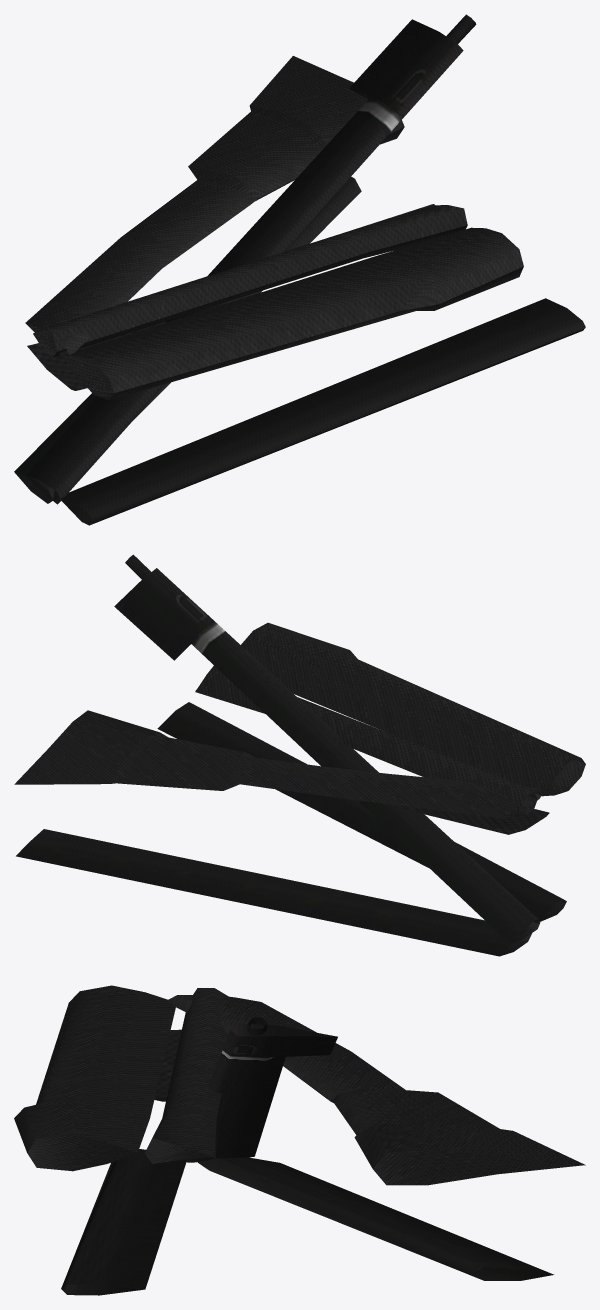
Rendered from FerrariF2007_SuspFR.glb.
3 views of the same model, one above another, from view 1: azimuth 30°, elevation 25°; view 2: azimuth 150°, elevation 25°; view 3: azimuth 270°, elevation 25° (orthographic). The views are drawn at different scales.
Parts seen in each view (by area): view 1: fer_suspa_fr; view 2: fer_suspa_fr; view 3: fer_suspa_fr.
Boxes of the visible parts, x1,y1,x2,y2 form: fer_suspa_fr: (14, 14, 585, 525); fer_suspa_fr: (14, 554, 585, 956); fer_suspa_fr: (14, 985, 585, 1295).
Bounding box in the file's own units: 0.4483 × 0.3321 × 0.4537.
Materials: 1 (1 with a texture image).
